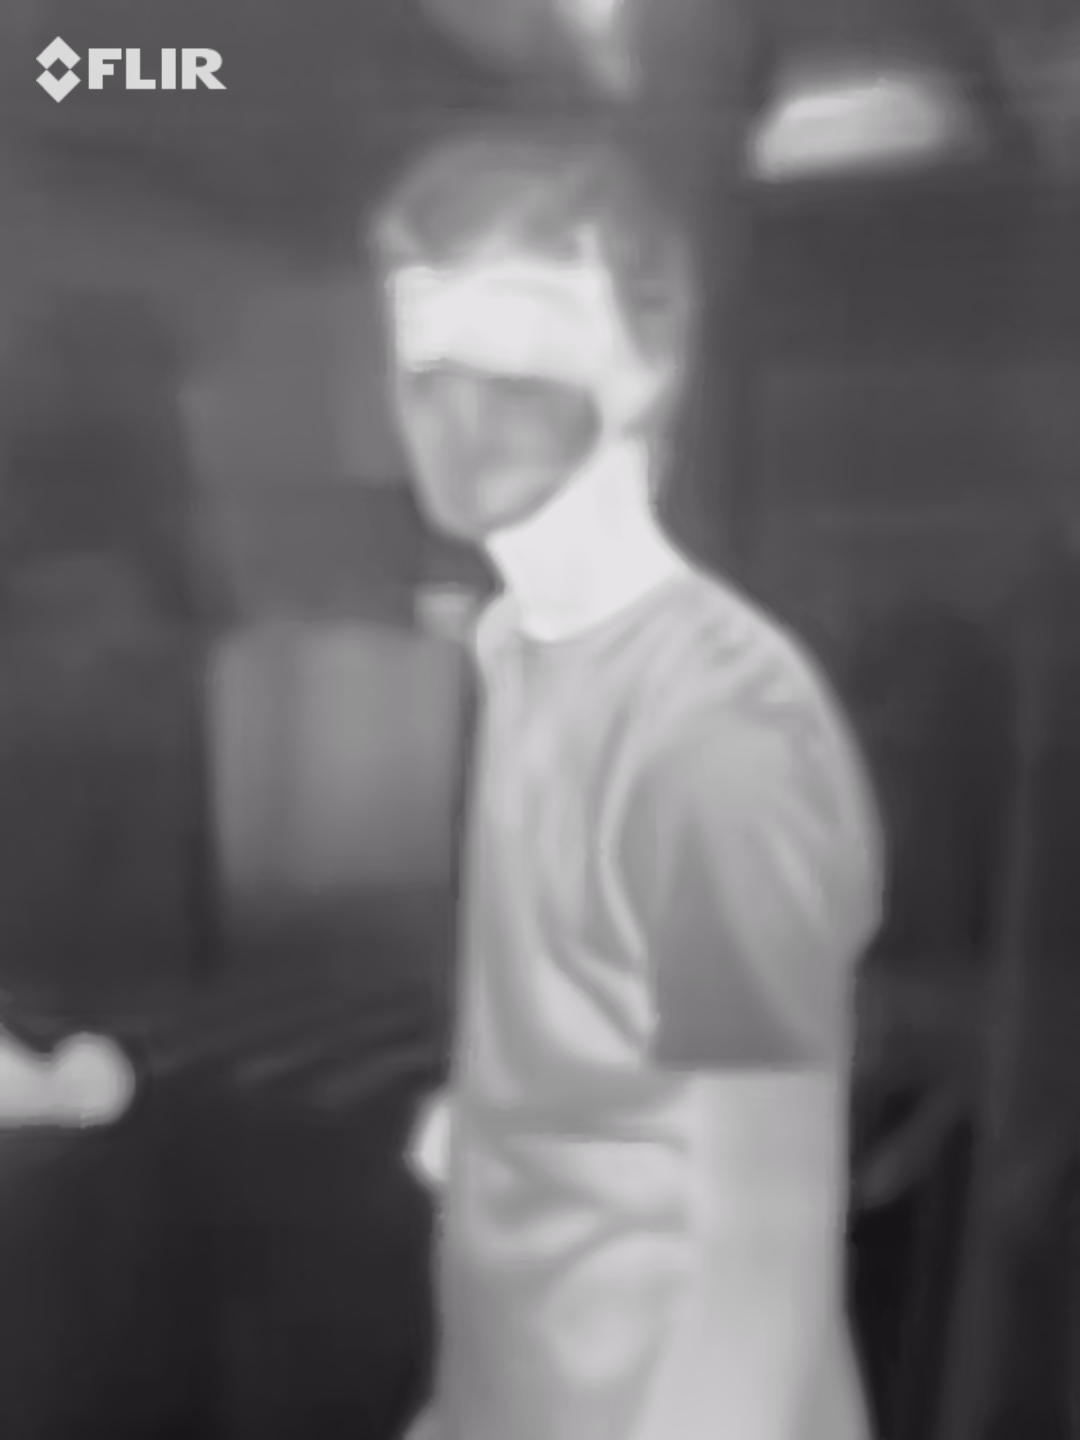head: (360, 119, 692, 554)
